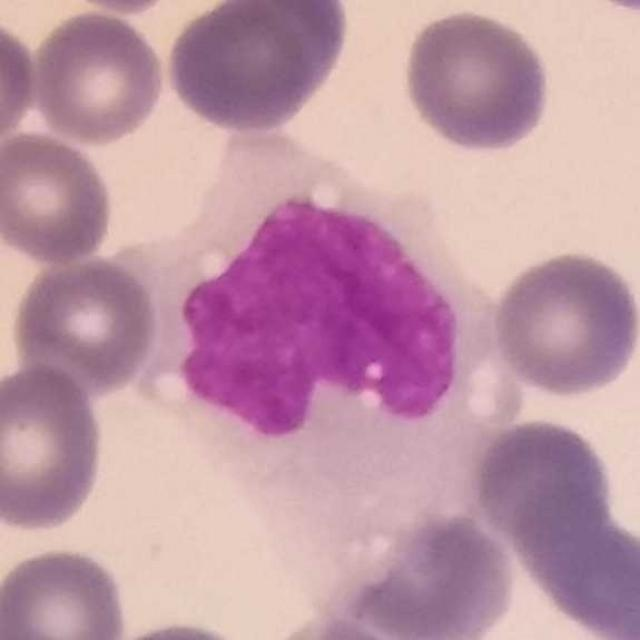Monocyte: (150, 132, 504, 542)
RBC: (161, 0, 353, 136), (337, 505, 522, 640), (396, 4, 556, 157), (486, 247, 640, 401), (6, 251, 162, 395), (503, 482, 639, 640), (466, 413, 617, 549), (27, 7, 169, 148), (0, 358, 108, 536), (1, 127, 118, 267), (0, 542, 132, 640), (0, 12, 39, 156), (255, 615, 427, 640), (92, 615, 263, 640)
